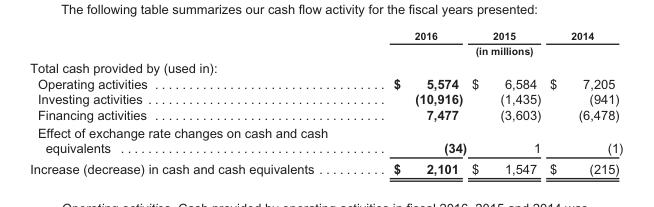table: (29, 29, 622, 175)
table column: (29, 29, 359, 175), (359, 29, 468, 175), (544, 29, 622, 175), (468, 29, 544, 175)
table column header: (29, 29, 622, 58)
table projected row header: (29, 58, 622, 75)
table row: (29, 123, 622, 158), (29, 58, 622, 75), (29, 106, 622, 123), (29, 158, 622, 175), (29, 42, 622, 58), (29, 90, 622, 106), (29, 75, 622, 90), (29, 29, 622, 42)
table spanning cell: (359, 42, 622, 58)
